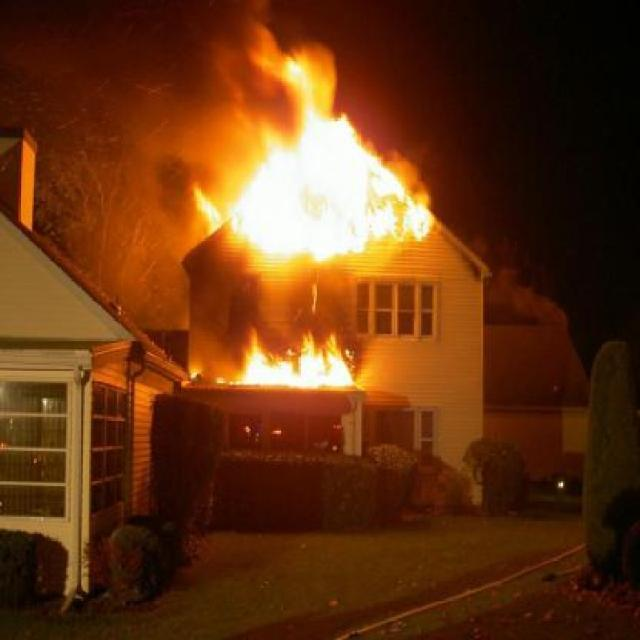Fire: (195, 56, 436, 256), (233, 324, 354, 388)
